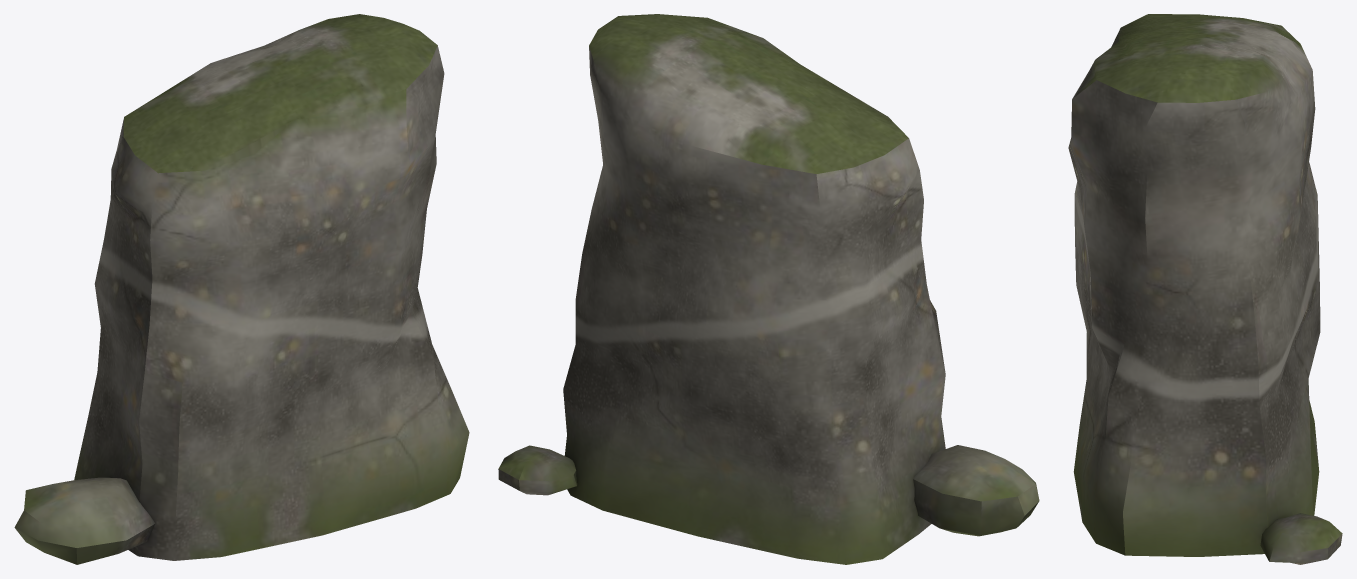
File: fm_stone_circle_piece.glb
The picture shows the model from 3 angles, left to right: view 1: azimuth 30°, elevation 25°; view 2: azimuth 150°, elevation 25°; view 3: azimuth 270°, elevation 25°; orthographic projection. The views are drawn at different scales.
Parts seen in each view (by area): view 1: fm_stone_circle_piece; view 2: fm_stone_circle_piece; view 3: fm_stone_circle_piece.
Part boxes in pixels (bbox=[...]): fm_stone_circle_piece: bbox=[14, 14, 469, 564]; fm_stone_circle_piece: bbox=[498, 14, 1039, 564]; fm_stone_circle_piece: bbox=[1068, 14, 1342, 564].
Bounding box in the file's own units: 1.38 × 1.25 × 0.6718.
Materials: 1 (1 with a texture image).
